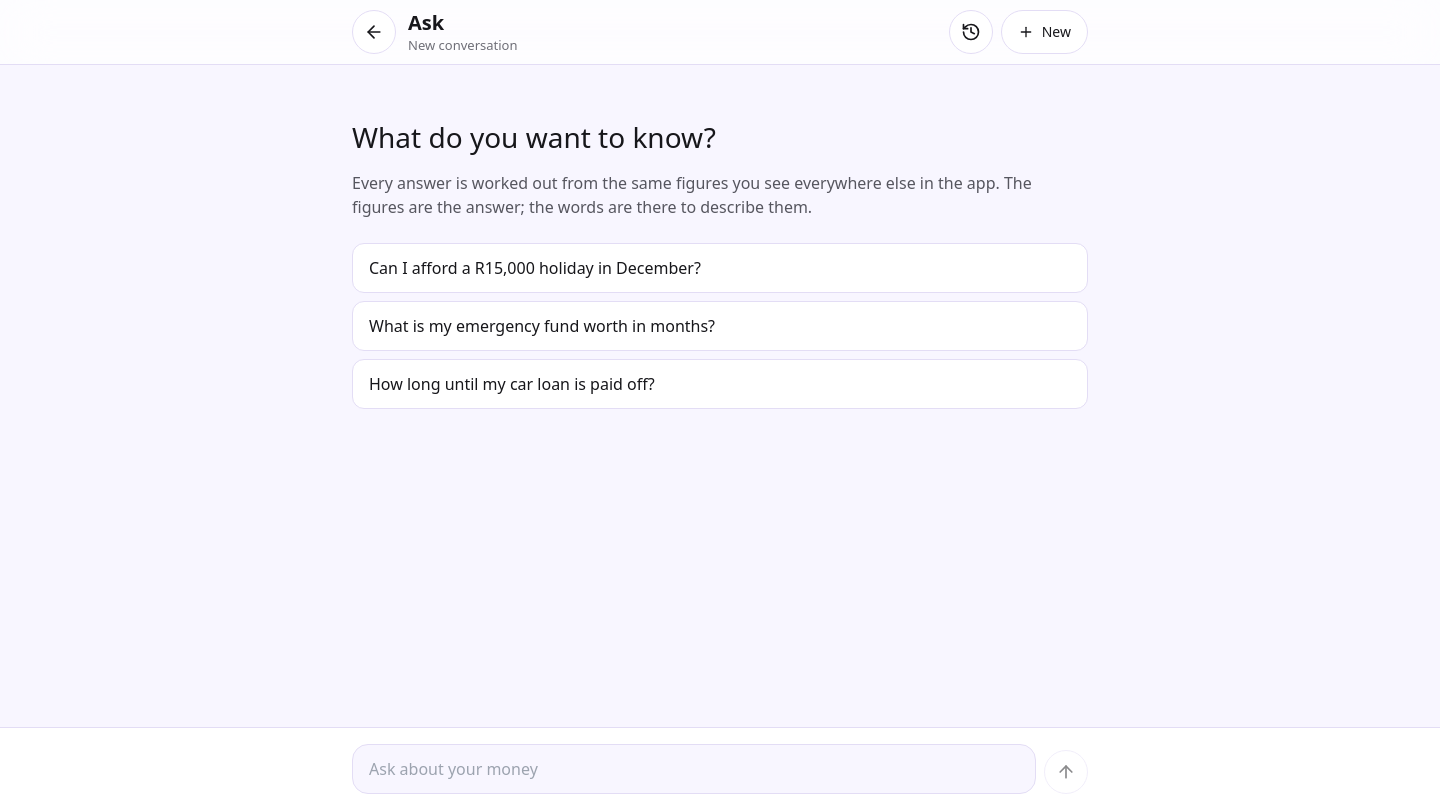
Test: ChatView › renders a small-talk reply with no figures and no missing-explanation caption
The image size is (1440, 810).
Type "hi" into the text box named "Question" at (694, 769), box x1=352 y1=744 x2=1036 y2=794
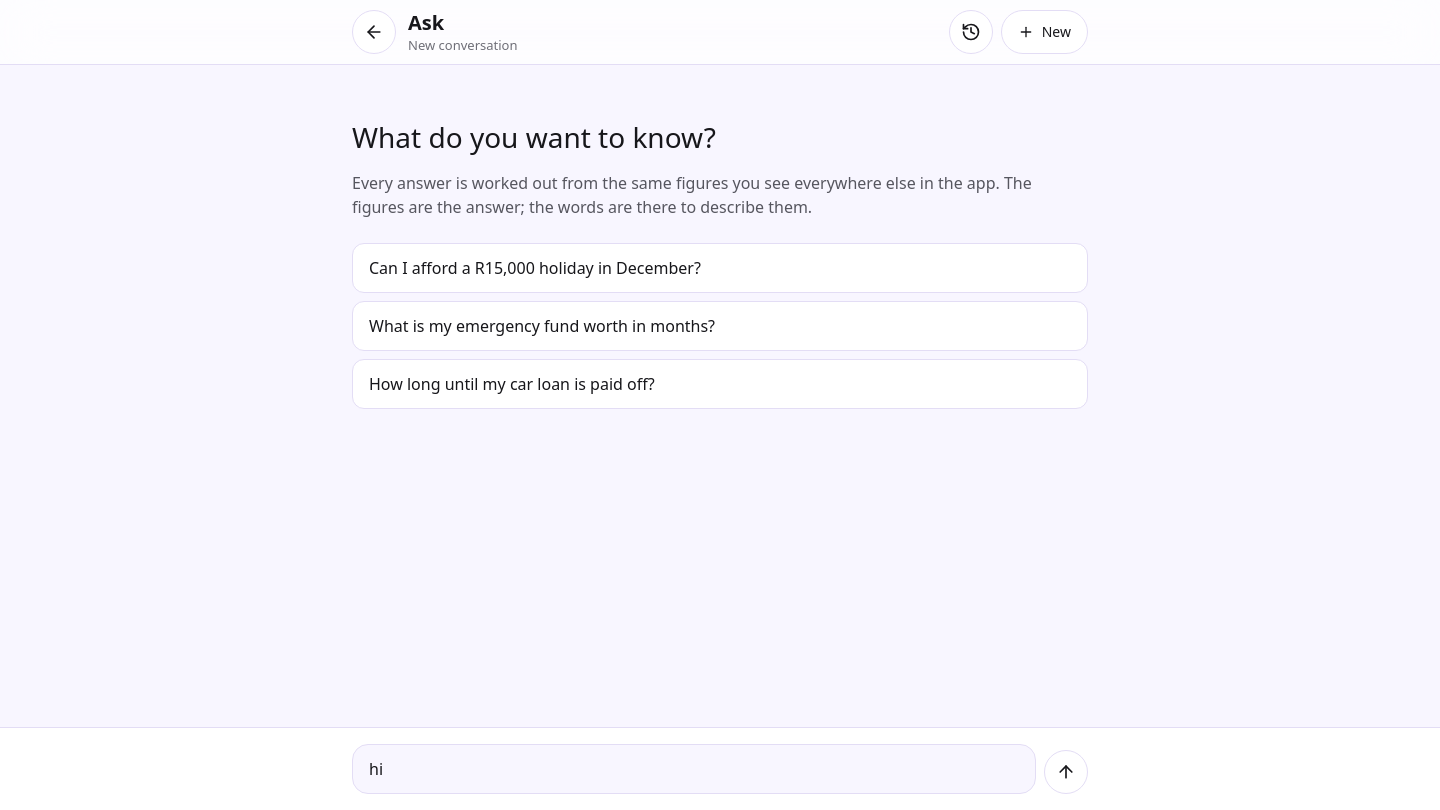
Click the button named "Send" at (1066, 772), box x1=1044 y1=750 x2=1088 y2=794
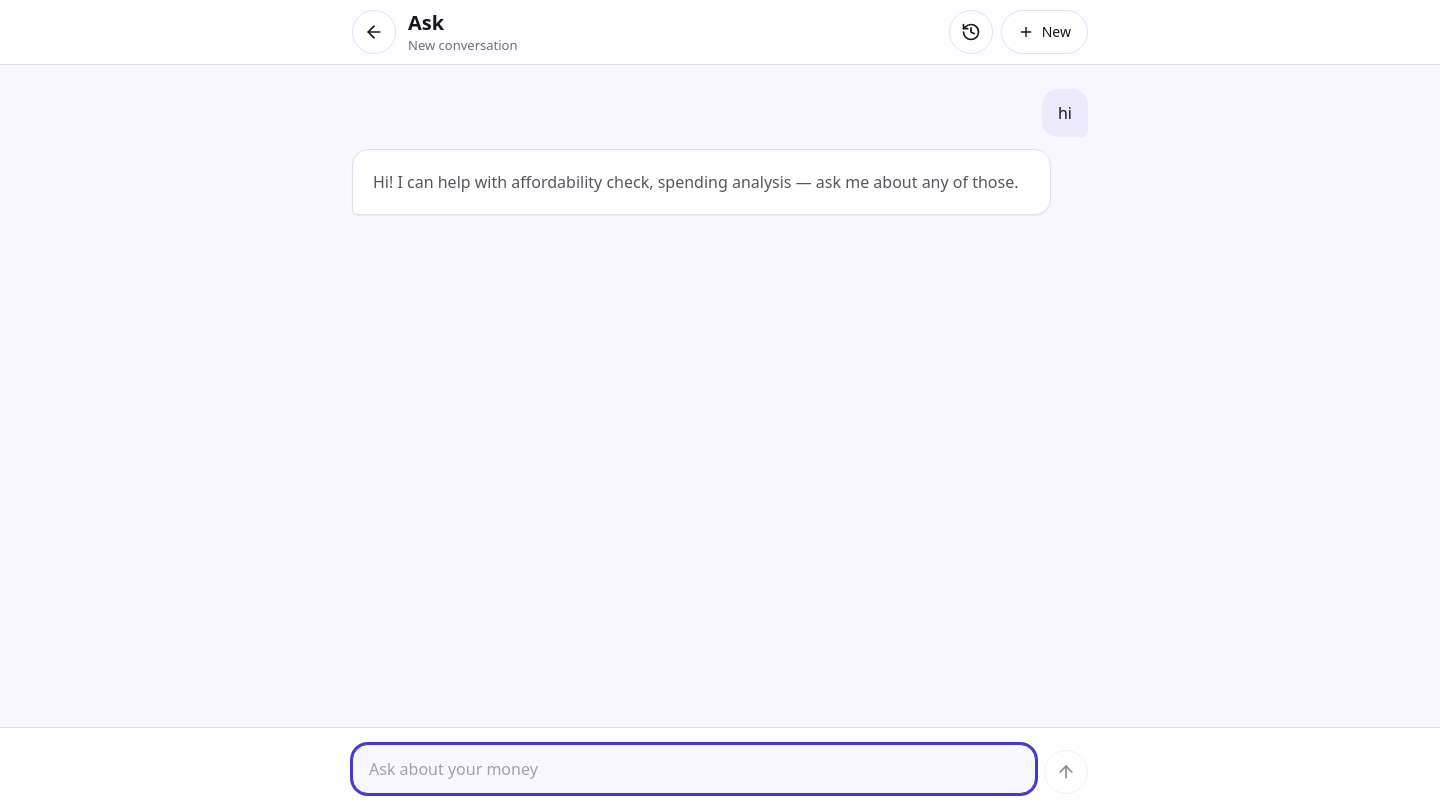
Check: the text "Hi! I can help with" is shown, box x1=373 y1=171 x2=1018 y2=193
